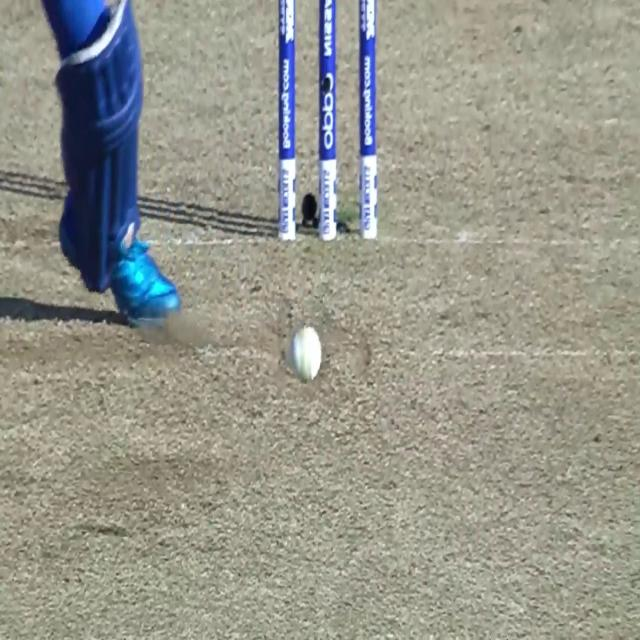ball: (292, 327, 322, 386)
